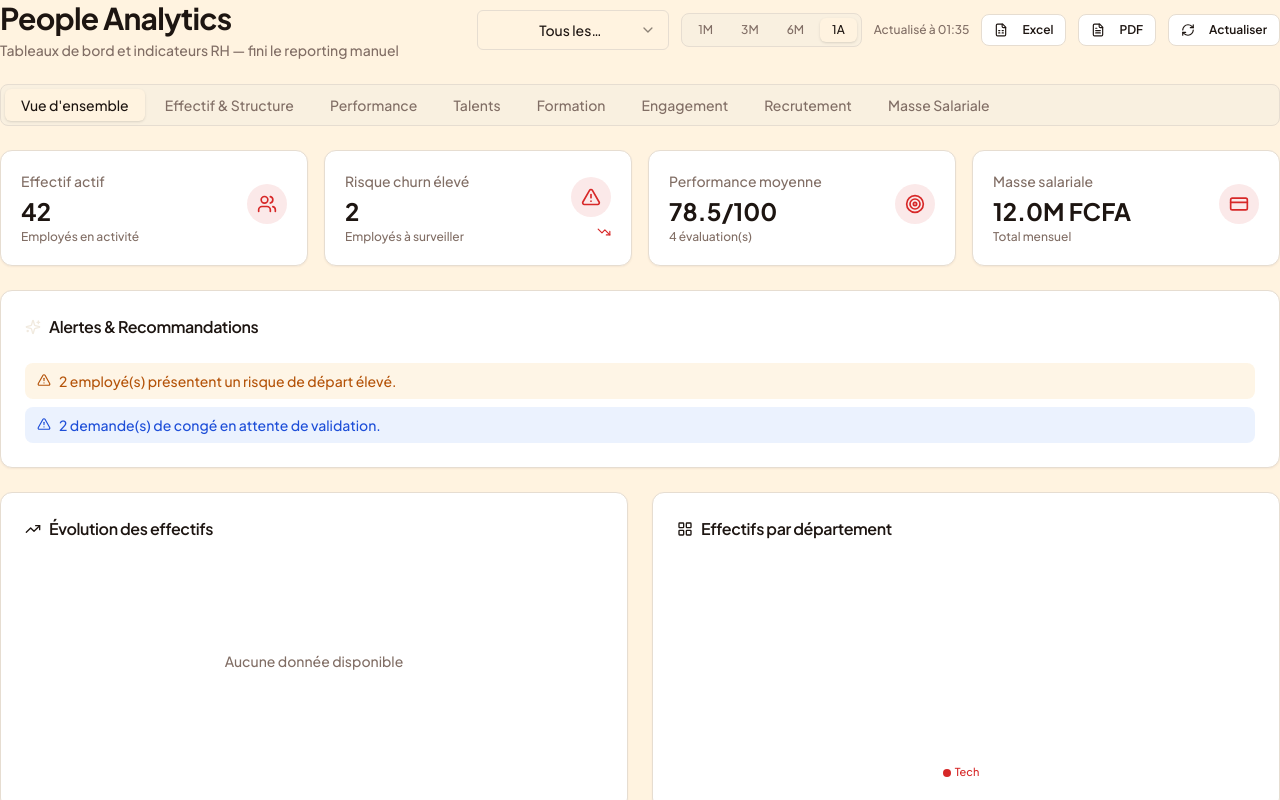
Test case: AnalyticsPage › affiche la section Performance en changeant d'onglet
Expected: the text "Effectif actif" is shown, [21, 172, 105, 190]
Click the button "Performance" at (374, 105), box [314, 89, 433, 121]
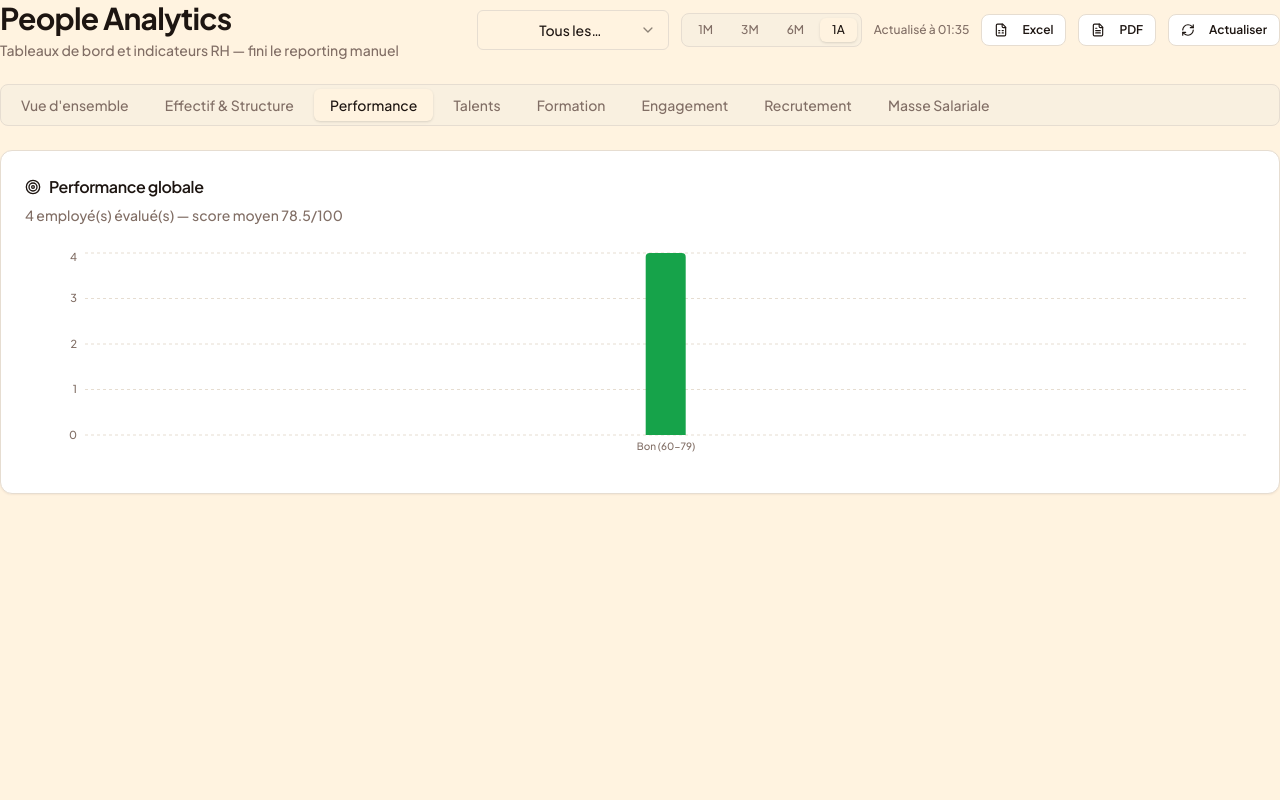
Now the heading "Performance globale" is shown, box [25, 176, 204, 197]
